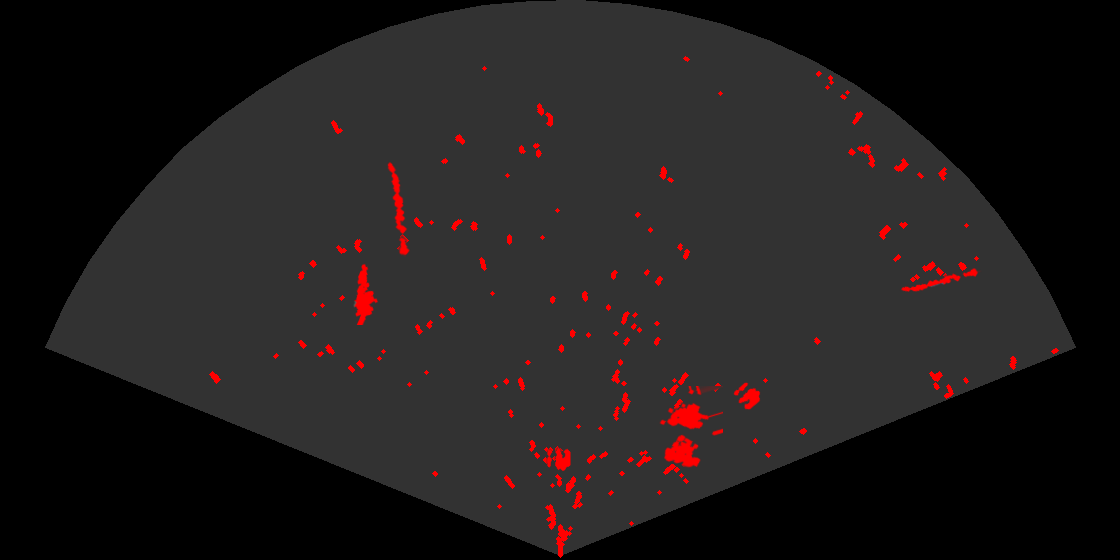ball: (732, 381, 762, 411), (546, 446, 572, 472)
cage: (658, 386, 723, 469)
chain: (386, 160, 411, 257), (899, 267, 982, 293)
frogman: (353, 262, 380, 325)
